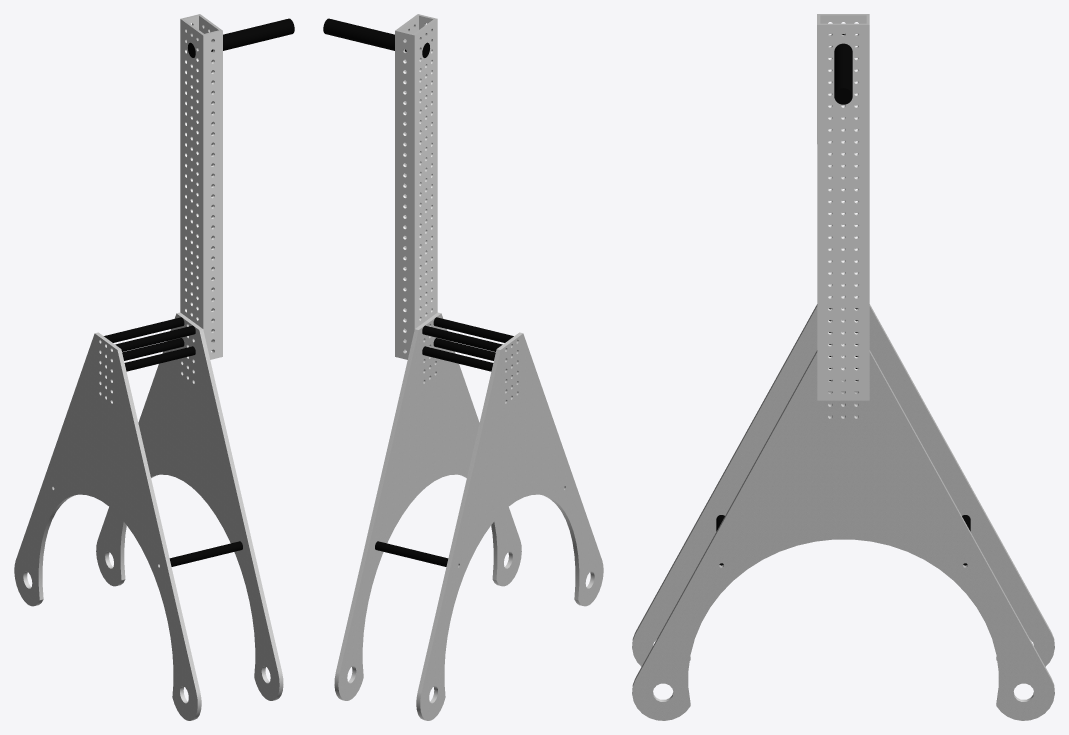
The picture shows the model from 3 angles, left to right: view 1: azimuth 30°, elevation 25°; view 2: azimuth 150°, elevation 25°; view 3: azimuth 270°, elevation 25°; orthographic projection. The views are drawn at different scales.
Visible parts, largest first — view 1: Sólido1 (×9); view 2: Sólido1 (×9); view 3: Sólido1 (×4).
Boxes of the visible parts, <box> form: Sólido1 (×9): <box>14,14,294,720</box>; Sólido1 (×9): <box>323,14,603,720</box>; Sólido1 (×4): <box>632,14,1054,720</box>.
Bounding box in the file's own units: 0.237 × 0.7527 × 0.4079.
4 materials, 1 textured.
